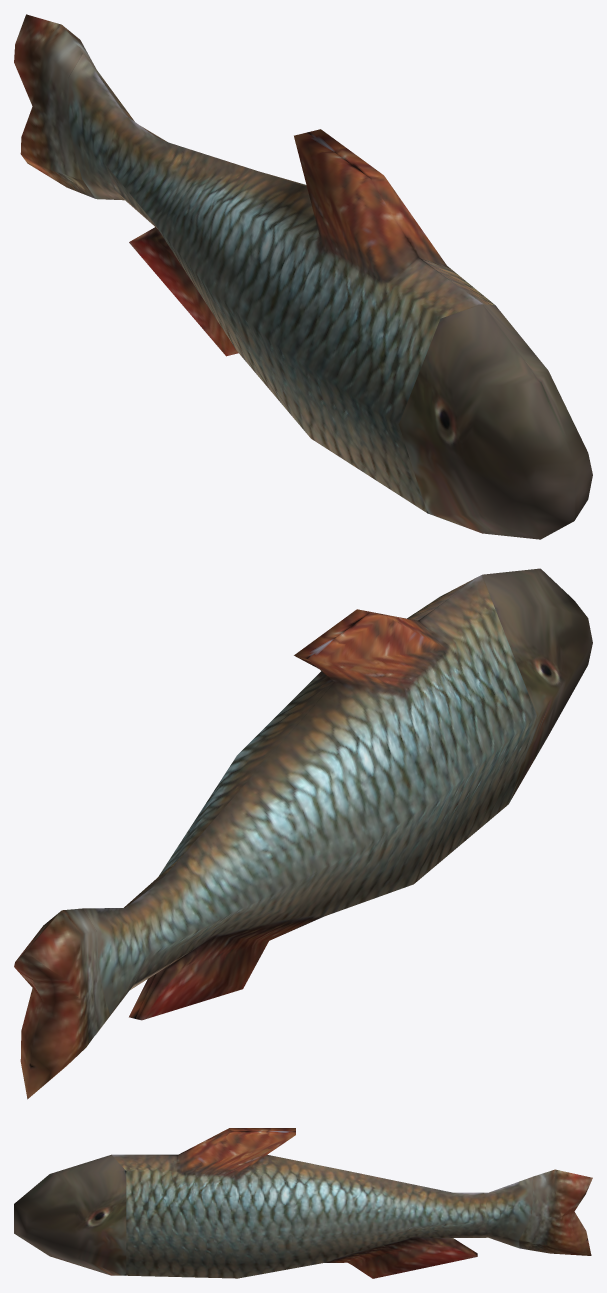
Rendered from Catfish.fbx.
3 renders of one model, top to bottom at view 1: azimuth 30°, elevation 25°; view 2: azimuth 150°, elevation 25°; view 3: azimuth 270°, elevation 25°, orthographic. The views are drawn at different scales.
Visible parts, largest first — view 1: Cube; view 2: Cube; view 3: Cube.
Boxes of the visible parts, x1,y1,x2,y2 form: Cube: [14, 14, 592, 539]; Cube: [14, 568, 592, 1099]; Cube: [14, 1128, 592, 1278].
Size of the model in its own units: 146 by 240 by 867.
